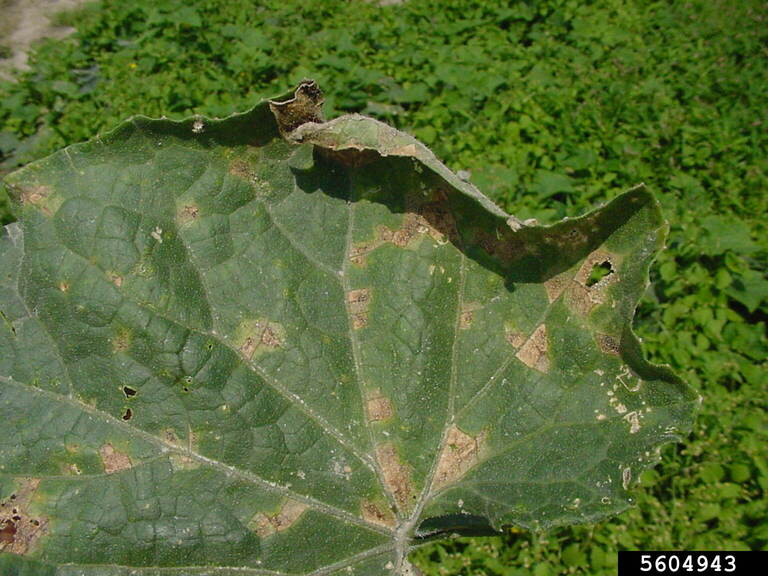Cucumber_PhytophthoraBlight: (1, 120, 683, 562)
